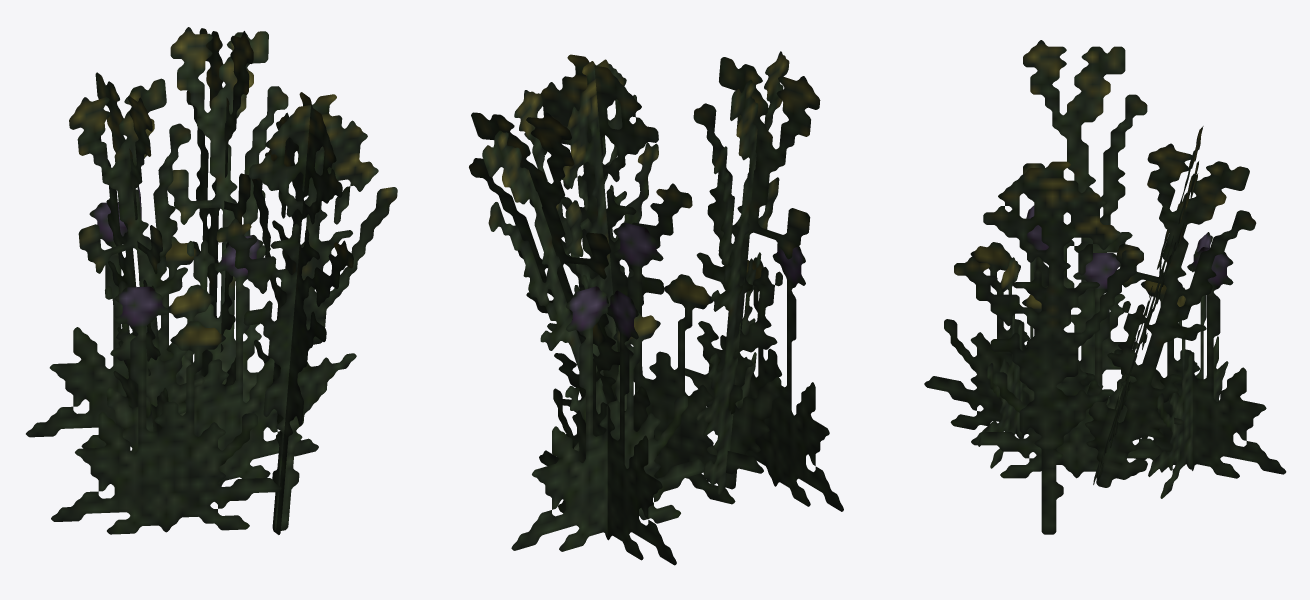
File: SM_EC_Plant_Bush_08.fbx
3 renders of one model, left to right at view 1: azimuth 30°, elevation 25°; view 2: azimuth 150°, elevation 25°; view 3: azimuth 270°, elevation 25°, orthographic. The views are drawn at different scales.
Parts seen in each view (by area): view 1: SM_EC_Plant_Bush_08; view 2: SM_EC_Plant_Bush_08; view 3: SM_EC_Plant_Bush_08.
Part boxes in pixels (x1,y1,x2,y2): SM_EC_Plant_Bush_08: (26,27,397,534); SM_EC_Plant_Bush_08: (469,51,843,565); SM_EC_Plant_Bush_08: (924,40,1286,534).
Bounding box in the file's own units: 0.8117 × 0.8158 × 1.06.
